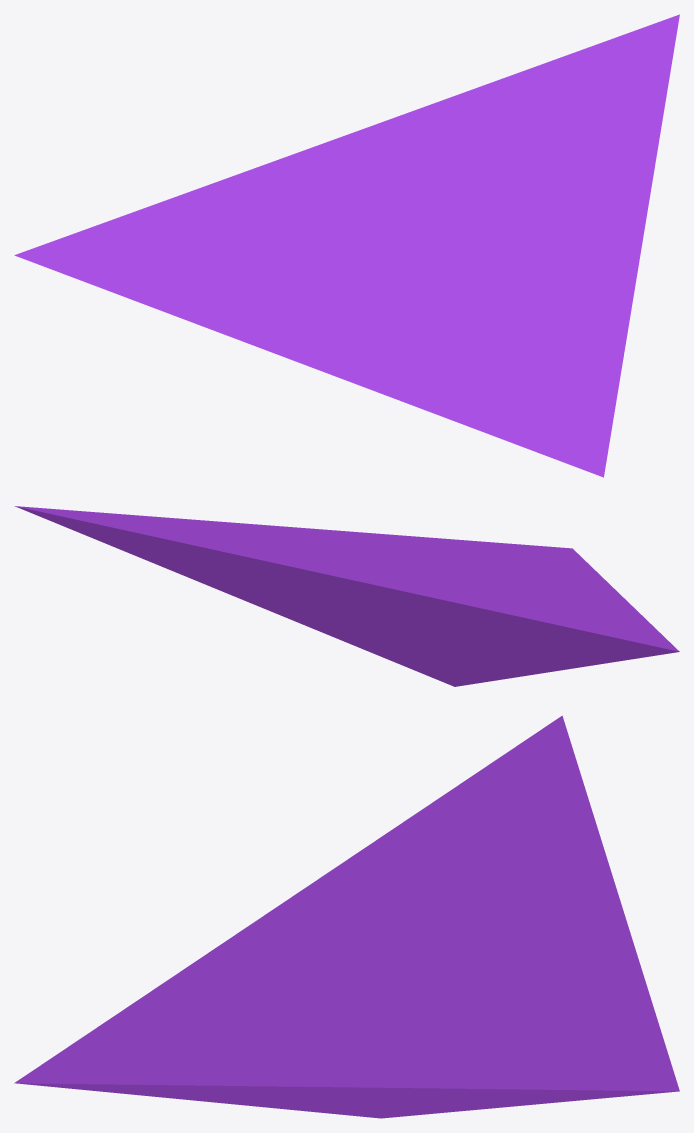
File: Window_144_5_chunks.fbx
The picture shows the model from 3 angles, top to bottom: view 1: azimuth 30°, elevation 25°; view 2: azimuth 150°, elevation 25°; view 3: azimuth 270°, elevation 25°; orthographic projection. The views are drawn at different scales.
Parts seen in each view (by area): view 1: Window_144_5_0; view 2: Window_144_5_0; view 3: Window_144_5_0.
Boxes of the visible parts, <box> form: Window_144_5_0: <box>14,14,679,477</box>; Window_144_5_0: <box>14,506,679,686</box>; Window_144_5_0: <box>14,715,679,1118</box>.
Bounding box in the file's own units: 270 × 75.01 × 185.
